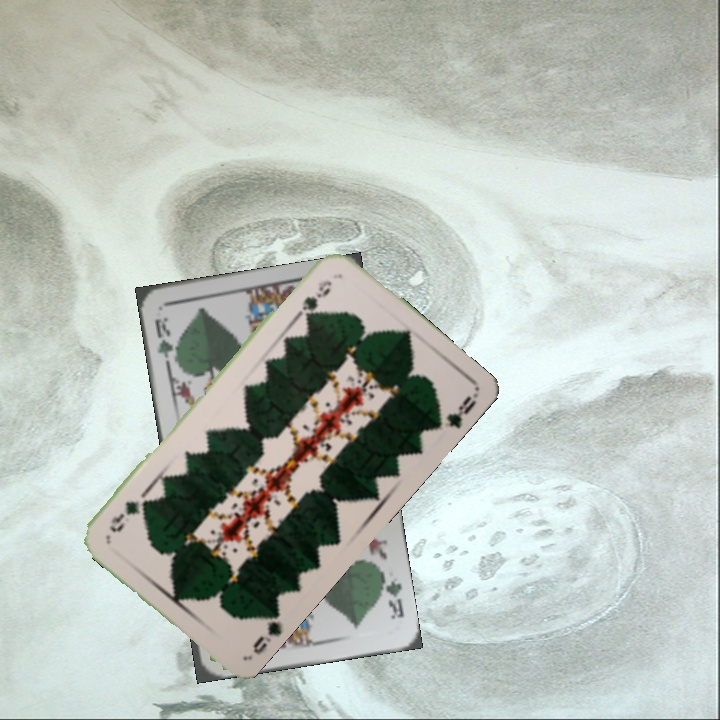G9: (248, 607, 284, 657), (297, 276, 335, 322)
GK: (375, 567, 407, 622), (150, 313, 181, 368)
